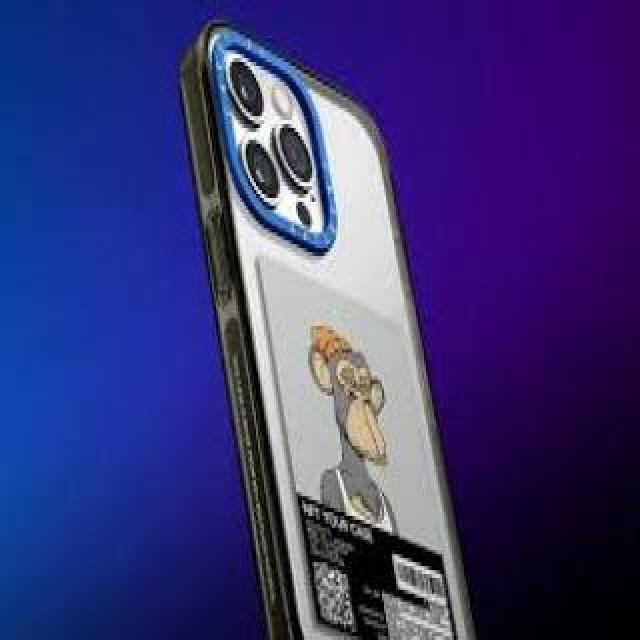smart phone: (142, 8, 486, 640)
